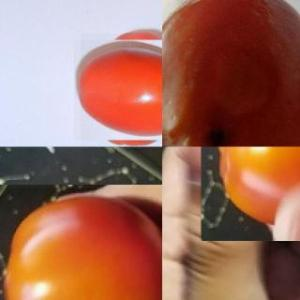tomato: (0, 188, 162, 300), (200, 148, 300, 240), (82, 34, 163, 146)
